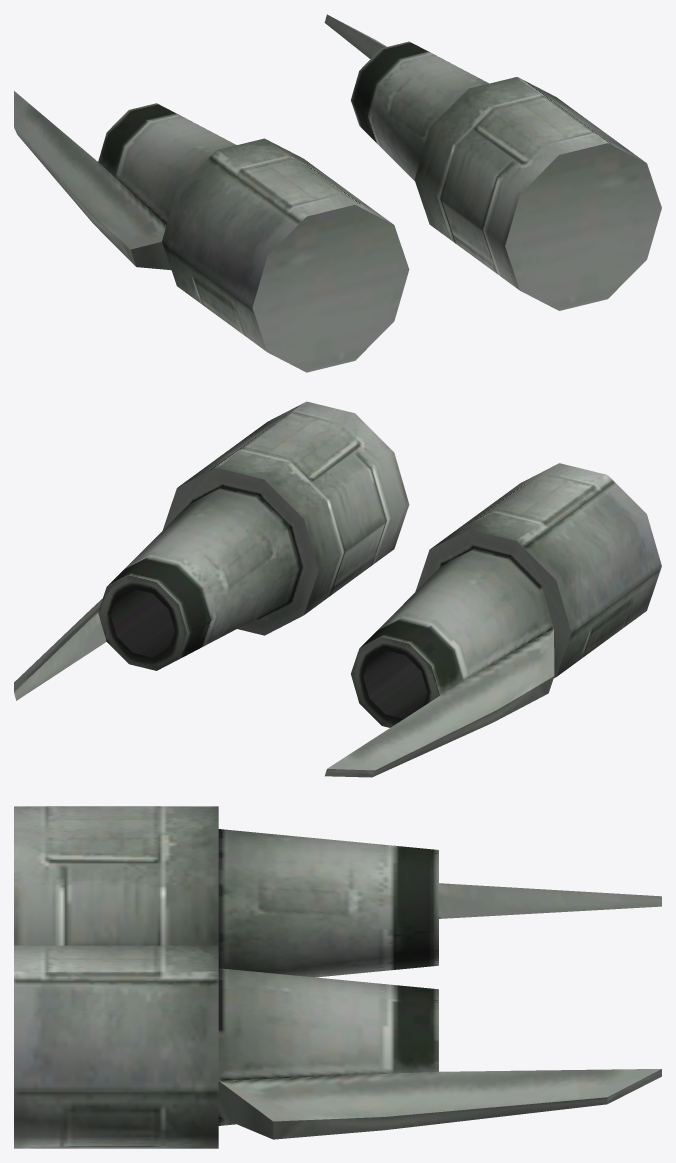
The model's file is black_sun_fighter_medium_booster_s02_l0.fbx.
3 views of the same model, one above another, from view 1: azimuth 30°, elevation 25°; view 2: azimuth 150°, elevation 25°; view 3: azimuth 270°, elevation 25° (orthographic). The views are drawn at different scales.
Visible parts, largest first — view 1: mesh_node; view 2: mesh_node; view 3: mesh_node.
Boxes of the visible parts, bbox=[...] form: mesh_node: bbox=[14, 14, 661, 372]; mesh_node: bbox=[14, 401, 661, 777]; mesh_node: bbox=[14, 806, 661, 1148].
Bounding box in the file's own units: 5.41 × 1.9 × 6.33.
1 material, 1 textured.
